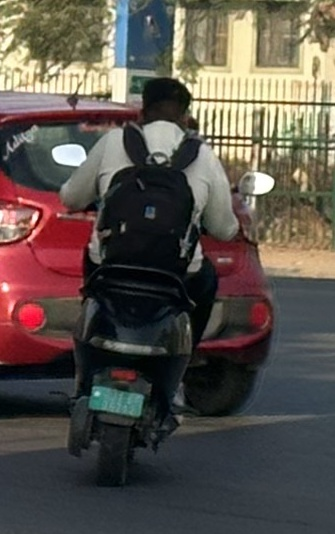BikeWithRider: (42, 69, 284, 490)
NoHelmet: (131, 72, 198, 137)
